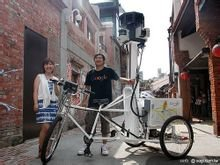people: (85, 54, 119, 156), (33, 57, 62, 159)
